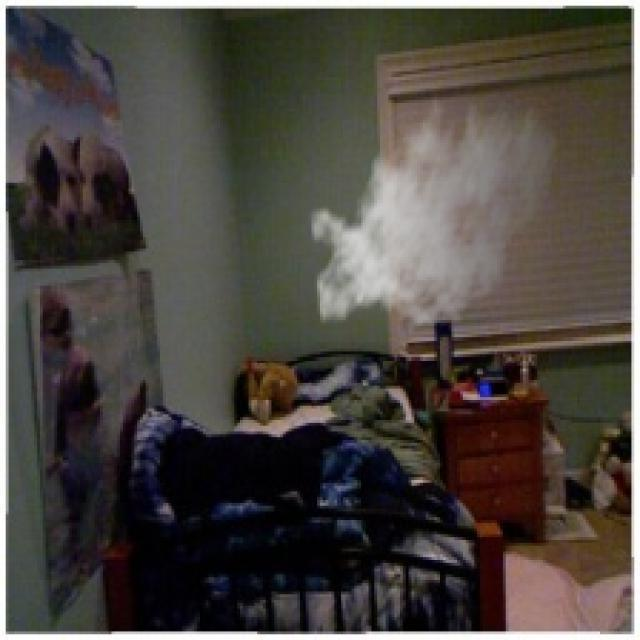Smoke: (309, 82, 560, 338)
